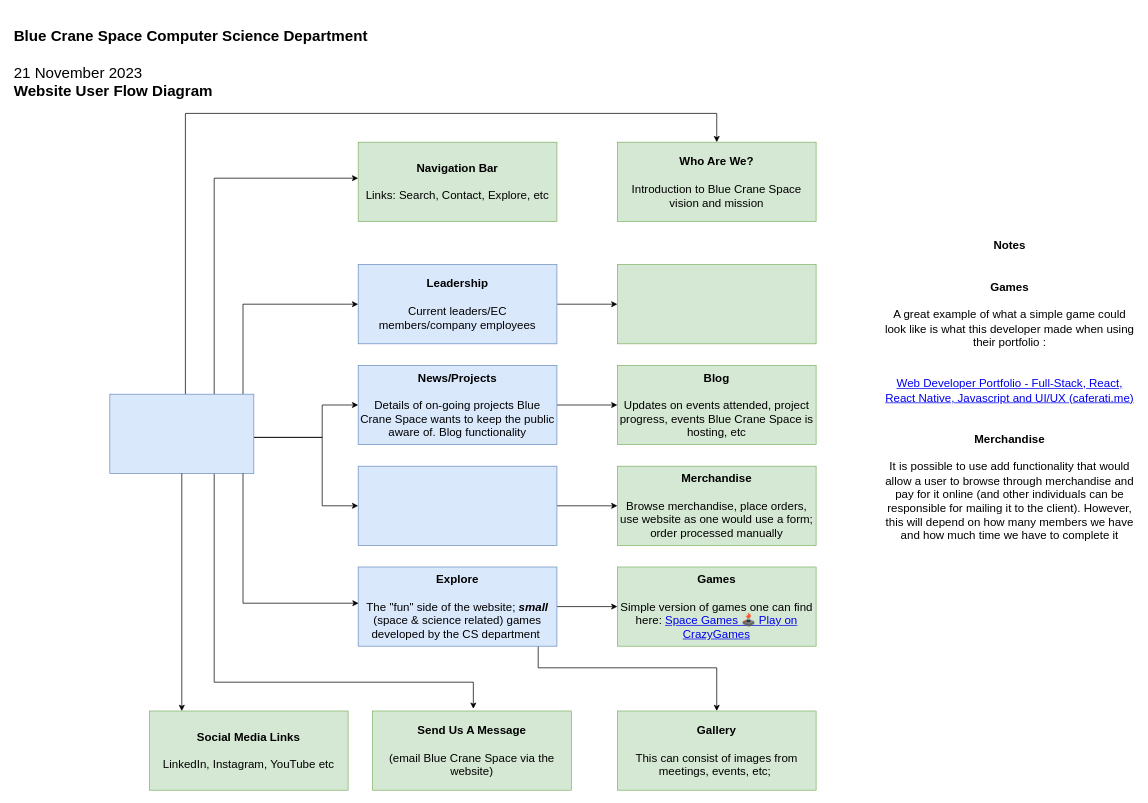
Some shapes in this 1148 by 803 pixel diagram are drawn without their labels. Each missing label, with the centre of its shape:
"Homepage" belongs at (x=181, y=433).
"Meet the team EC members, department coordinators and members" belongs at (x=716, y=304).
"Merchandise Browsing marchandise currently on sale" belongs at (x=457, y=505).
